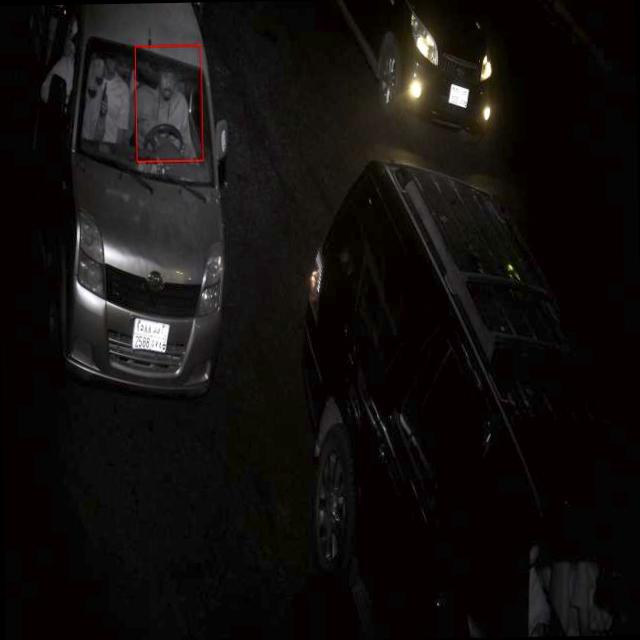person_without_seatbelt: (134, 64, 204, 163)
